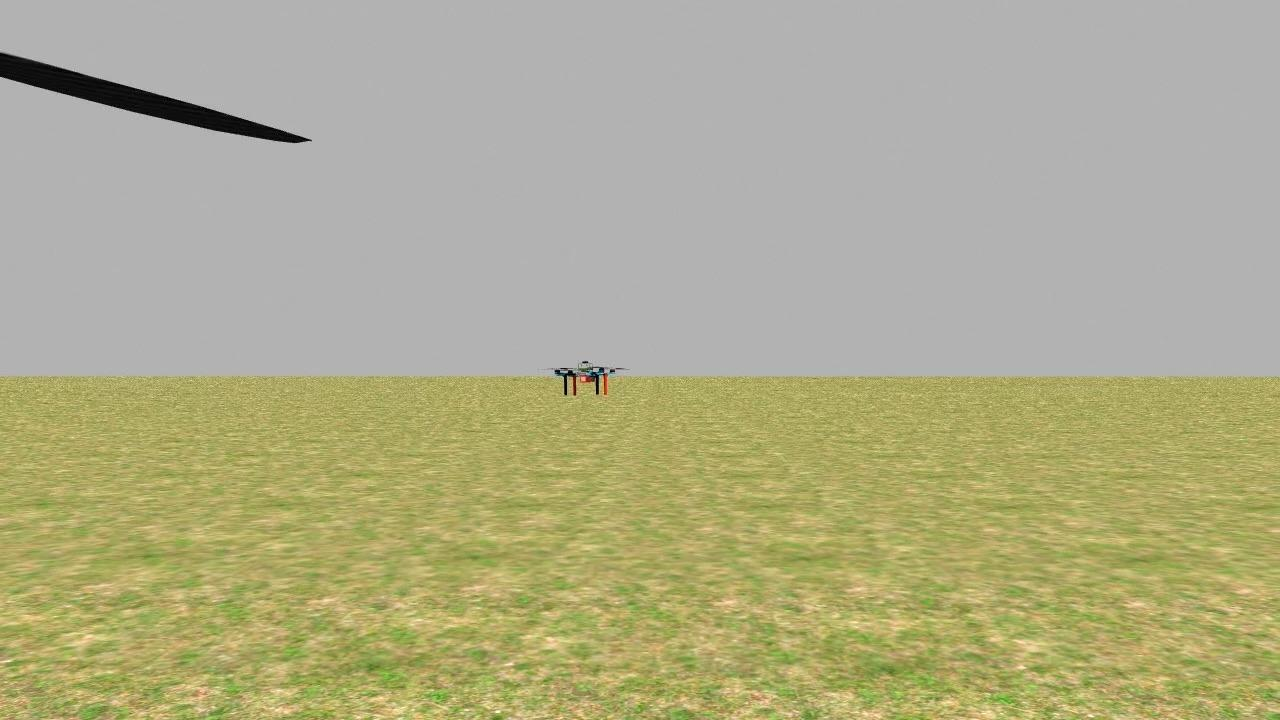UAV: (554, 358, 619, 406)
